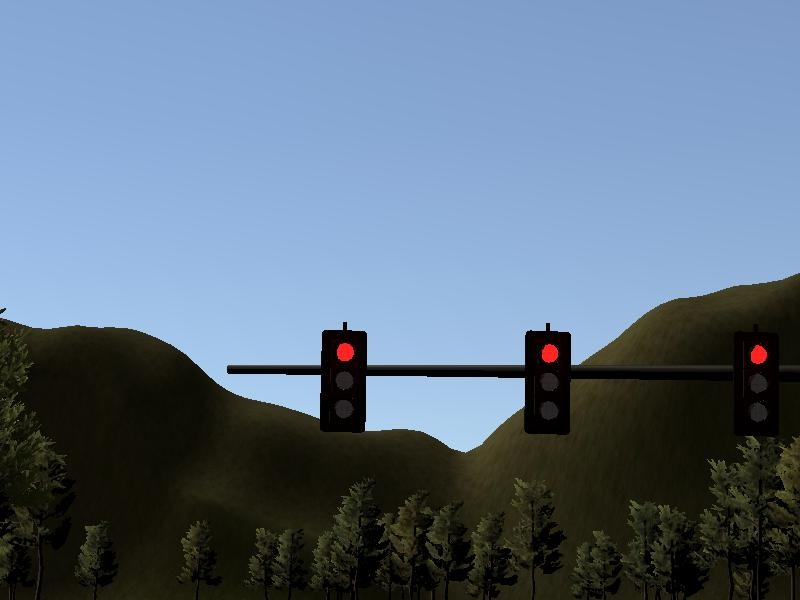red: (523, 330, 575, 439), (734, 331, 786, 440), (319, 329, 371, 438)
